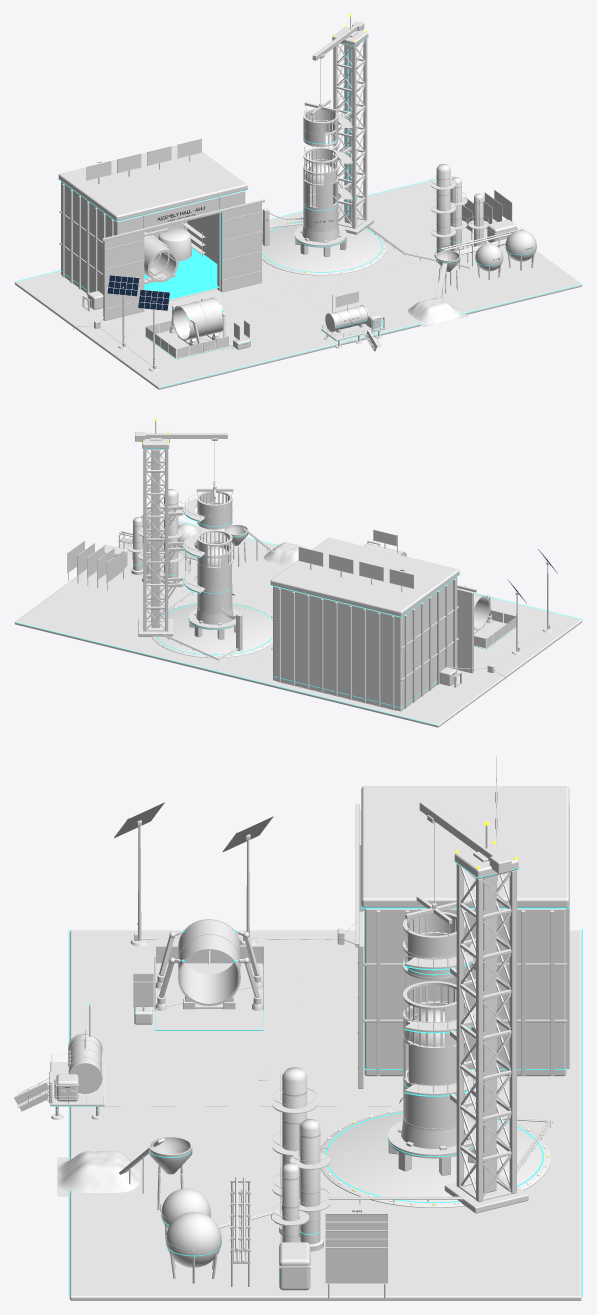
File: shipyard_master.glb
3 renders of one model, top to bottom at view 1: azimuth 30°, elevation 25°; view 2: azimuth 150°, elevation 25°; view 3: azimuth 270°, elevation 25°, orthographic. The views are drawn at different scales.
Parts seen in each view (by area): view 1: yard_slab, ah_roof, is_pad, ah_door_leaf.001, ah_wall_side, ah_door_leaf, ah_base_strip, wb_barrel, rf_column, ah_header, rf_feed_pile, ist_core (+14 smaller); view 2: yard_slab, ah_wall_back, ah_roof, ah_wall_side, is_pad, ist_core, ah_door_leaf, ist_next_ring, stk_ring2.001, stk_ring1, rf_column, ist_column.001 (+7 smaller); view 3: yard_slab, ah_roof, ah_wall_side.001, is_pad, wb_apron, wb_barrel, ist_core, rf_feed_pile, ist_column, ist_column.001, ist_column.002, rf_column.001 (+24 smaller).
Part boxes in pixels (bbox=[...]): yard_slab: bbox=[14, 179, 582, 389]; ah_roof: bbox=[58, 145, 247, 221]; is_pad: bbox=[262, 220, 386, 275]; ah_door_leaf.001: bbox=[220, 203, 261, 292]; ah_wall_side: bbox=[61, 182, 120, 293]; ah_door_leaf: bbox=[103, 231, 144, 320]; ah_base_strip: bbox=[60, 248, 220, 299]; wb_barrel: bbox=[173, 298, 222, 340]; rf_column: bbox=[434, 164, 450, 257]; ah_header: bbox=[143, 197, 219, 228]; rf_feed_pile: bbox=[408, 297, 468, 327]; ist_core: bbox=[344, 45, 352, 223]; yard_slab: bbox=[14, 518, 582, 727]; ah_wall_back: bbox=[273, 586, 402, 711]; ah_roof: bbox=[270, 538, 459, 616]; ah_wall_side: bbox=[397, 577, 457, 710]; is_pad: bbox=[151, 603, 272, 657]; ist_core: bbox=[151, 449, 160, 627]; ah_door_leaf: bbox=[457, 588, 473, 673]; ist_next_ring: bbox=[197, 493, 232, 528]; stk_ring2.001: bbox=[197, 563, 231, 590]; stk_ring1: bbox=[197, 586, 232, 613]; rf_column: bbox=[162, 489, 179, 583]; ist_column.001: bbox=[143, 449, 146, 631]; yard_slab: bbox=[69, 930, 581, 1300]; ah_roof: bbox=[361, 786, 569, 907]; ah_wall_side.001: bbox=[364, 908, 559, 1076]; is_pad: bbox=[320, 1111, 550, 1207]; wb_apron: bbox=[155, 964, 263, 1030]; wb_barrel: bbox=[178, 920, 240, 1005]; ist_core: bbox=[483, 876, 496, 1192]; rf_feed_pile: bbox=[57, 1151, 140, 1196]; ist_column: bbox=[476, 878, 483, 1202]; ist_column.001: bbox=[509, 870, 516, 1193]; ist_column.002: bbox=[456, 864, 463, 1187]; rf_column.001: bbox=[299, 1119, 323, 1251].
Size of the model in its own units: 114 by 54.32 by 73.35.
